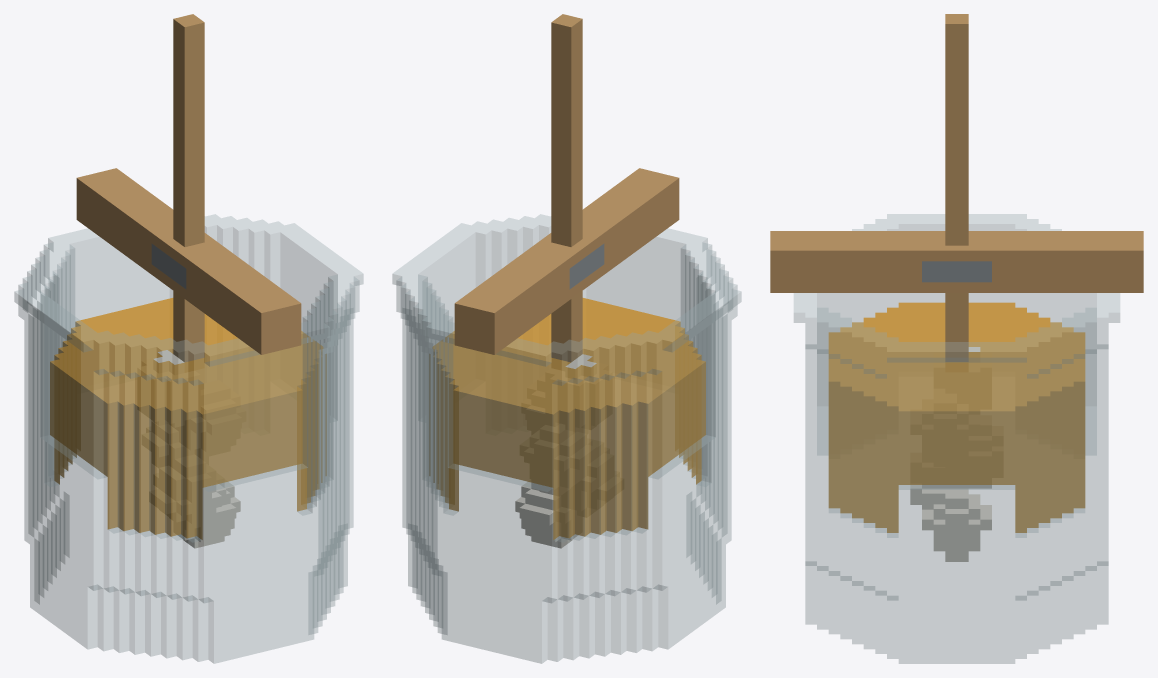
The model's file is crystallizing_sugar.glb.
The picture shows the model from 3 angles, left to right: view 1: azimuth 30°, elevation 25°; view 2: azimuth 150°, elevation 25°; view 3: azimuth 270°, elevation 25°; orthographic projection.
Visible parts, largest first — view 1: crystallizing_sugar:compound; view 2: crystallizing_sugar:compound; view 3: crystallizing_sugar:compound.
Part boxes in pixels (<box>): crystallizing_sugar:compound: <box>14,14,363,663</box>; crystallizing_sugar:compound: <box>392,14,741,663</box>; crystallizing_sugar:compound: <box>770,14,1143,663</box>.
Bounding box in the file's own units: 0.056 × 0.11 × 0.064.
